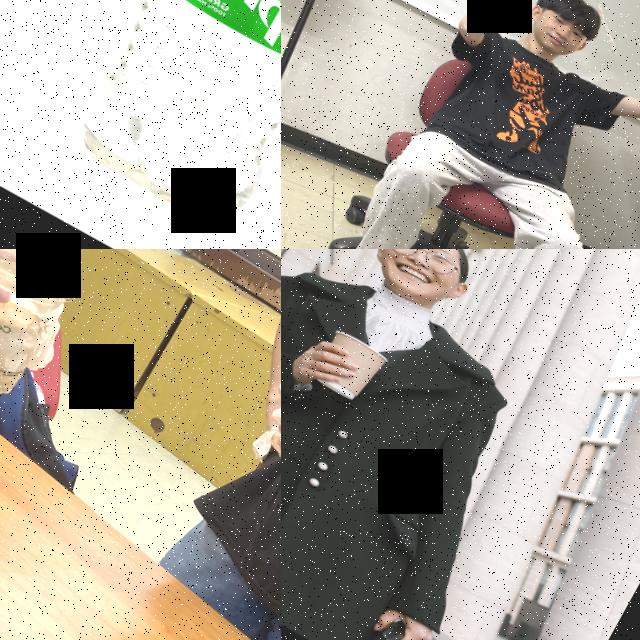bottle: (53, 0, 281, 235)
cup: (0, 249, 94, 409), (302, 324, 394, 409), (243, 352, 281, 504)
